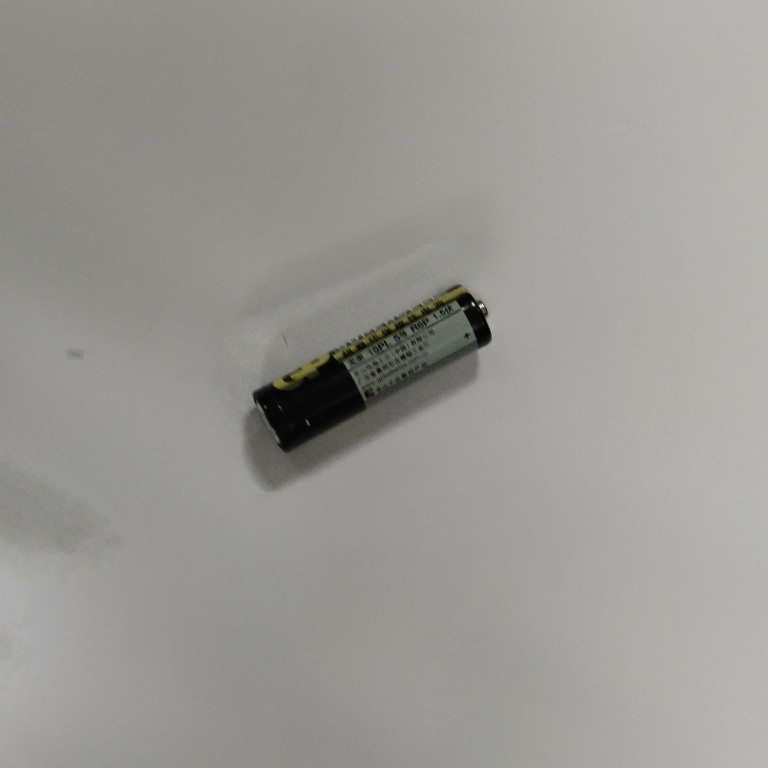charge: (248, 276, 498, 457)
